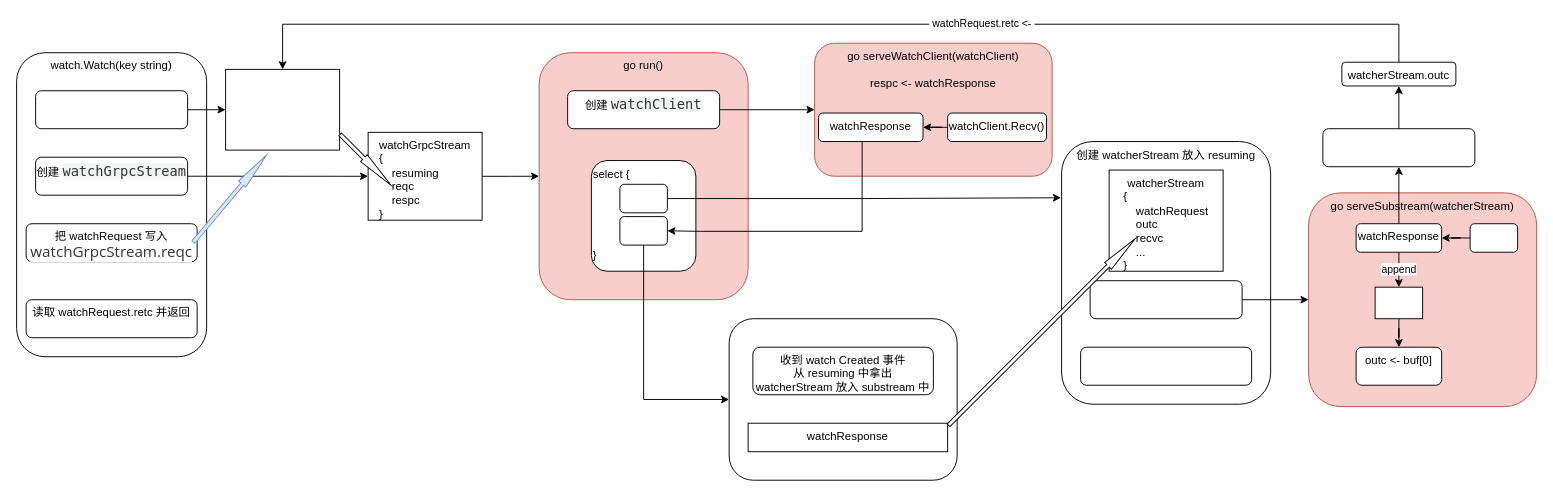
Image size: 1553x497. Some labels were removed from this diagram. Here are the shapes that lost their labels. From the top down, the centre of each, then its label:
At [111,109]: "创建 watchRequest".
At [282,109]: "watchRequest { key retc }".
At [1398,147]: "是 watch Created 事件".
At [643,198]: "<- reqc".
At [643,230]: "<- respc".
At [1493,237]: "recvc".
At [1165,299]: "serveSubstream".
At [1398,302]: "buf[]".
At [1166,365]: "把 watchRequest 通过 watchClient 发送给 etcd server".
